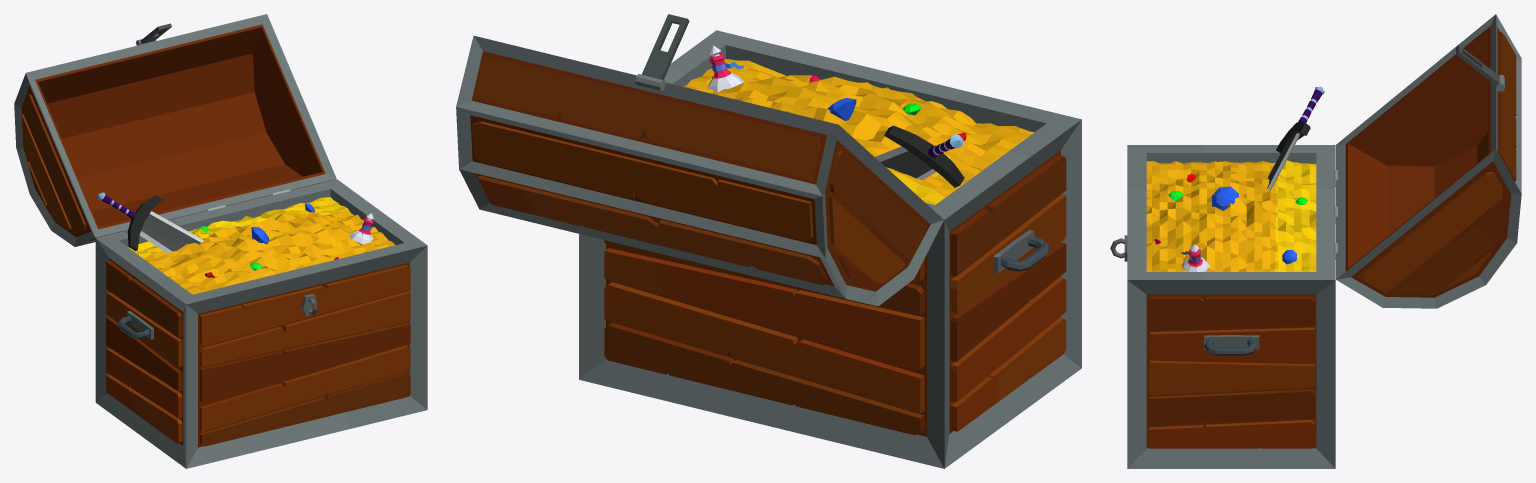
3 views of the same model, side by side, from view 1: azimuth 30°, elevation 25°; view 2: azimuth 150°, elevation 25°; view 3: azimuth 270°, elevation 25° (orthographic). The views are drawn at different scales.
Visible parts, largest first — view 1: COFRE; view 2: COFRE; view 3: COFRE.
Boxes of the visible parts, <box> form: COFRE: <box>14,14,427,468</box>; COFRE: <box>456,14,1081,468</box>; COFRE: <box>1110,14,1521,468</box>.
Size of the model in its own units: 371 by 397 by 419.
1 material, 1 textured.
